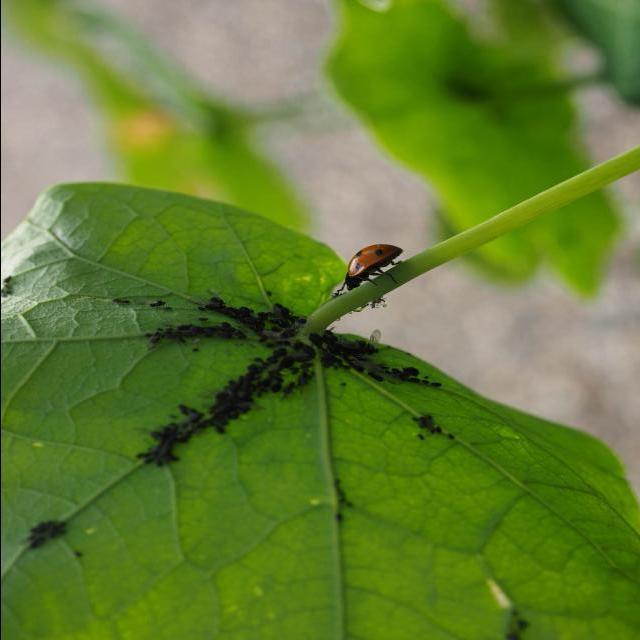aphid: (136, 297, 443, 465), (411, 411, 455, 444), (27, 520, 68, 551)
